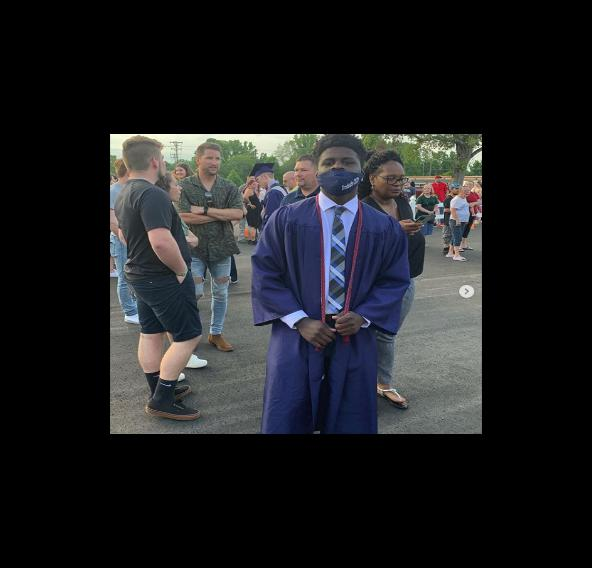mask_weared_incorrect: (320, 157, 362, 190)
without_mask: (380, 169, 407, 197), (202, 150, 223, 175), (295, 164, 314, 188), (156, 150, 169, 179), (172, 180, 184, 201), (255, 173, 269, 187), (282, 175, 293, 189), (176, 167, 187, 178), (462, 187, 472, 198), (248, 179, 258, 188), (423, 186, 432, 195), (453, 187, 459, 195), (436, 176, 442, 183)
